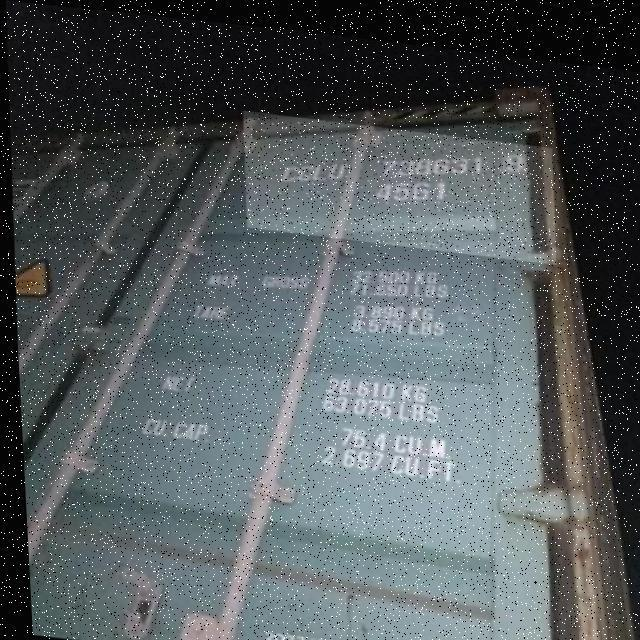container_number_h: (239, 105, 555, 252)
